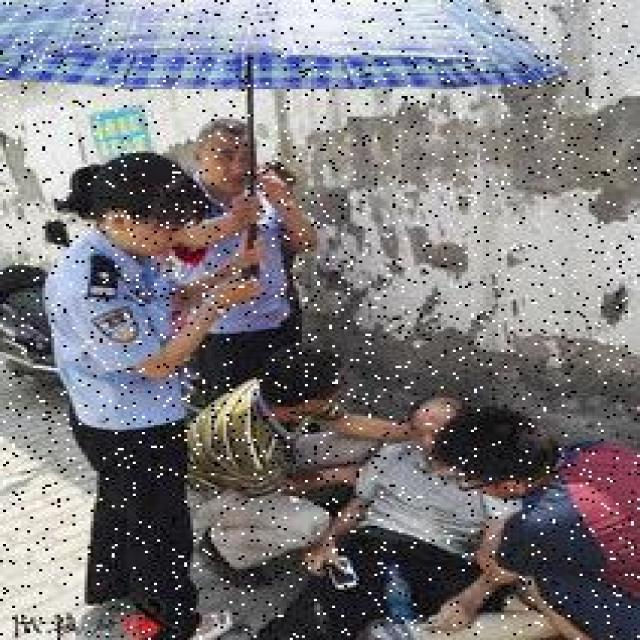fall: (332, 395, 486, 638)
